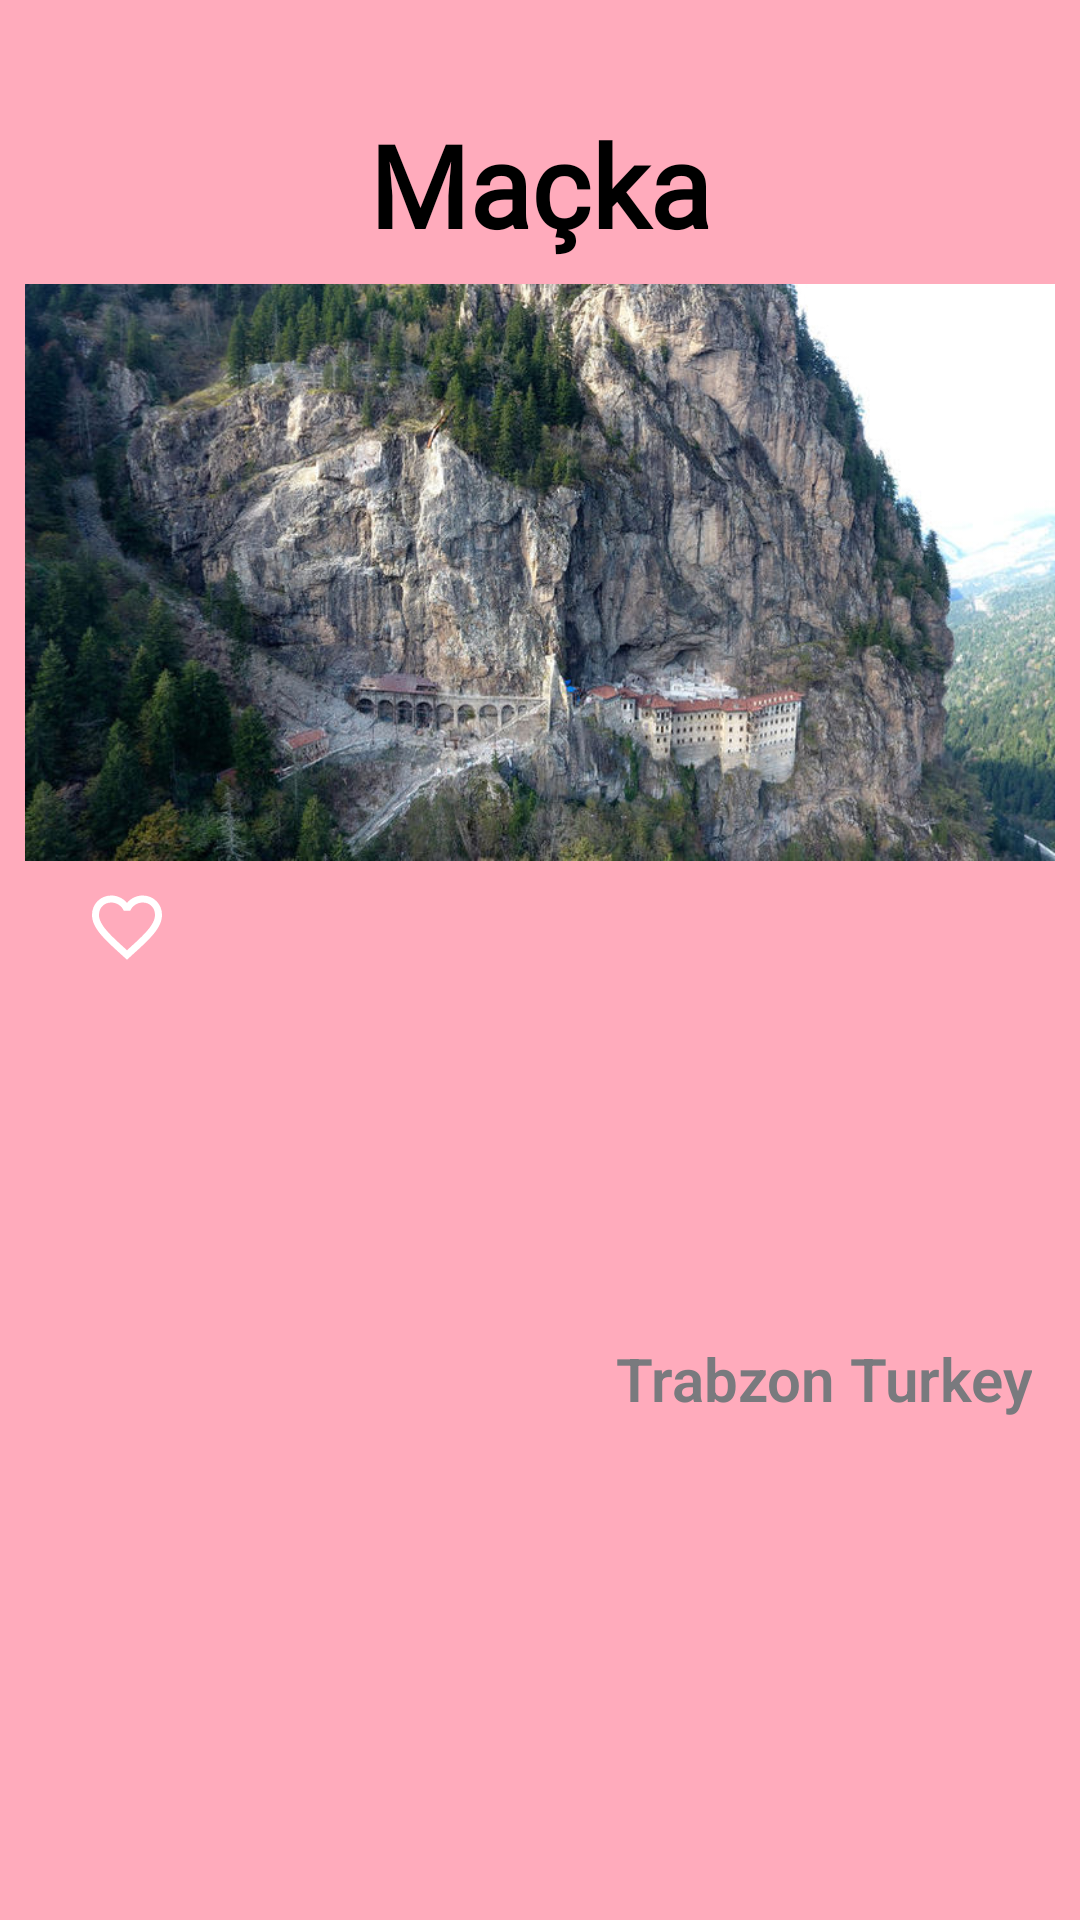

Point at icon controls on the screen. Image size 1080px×1920px, points as [x,y].
favorite false: [127,927]
